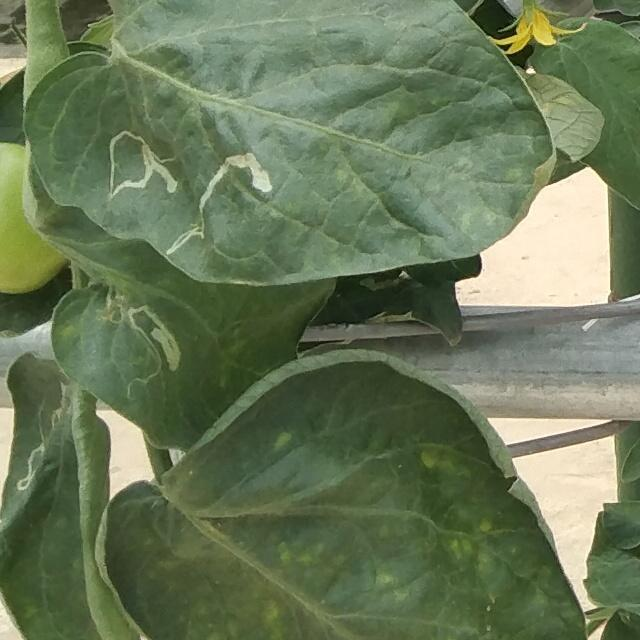Leaf_Miner: (20, 0, 560, 288), (23, 142, 347, 452), (0, 342, 117, 640)
